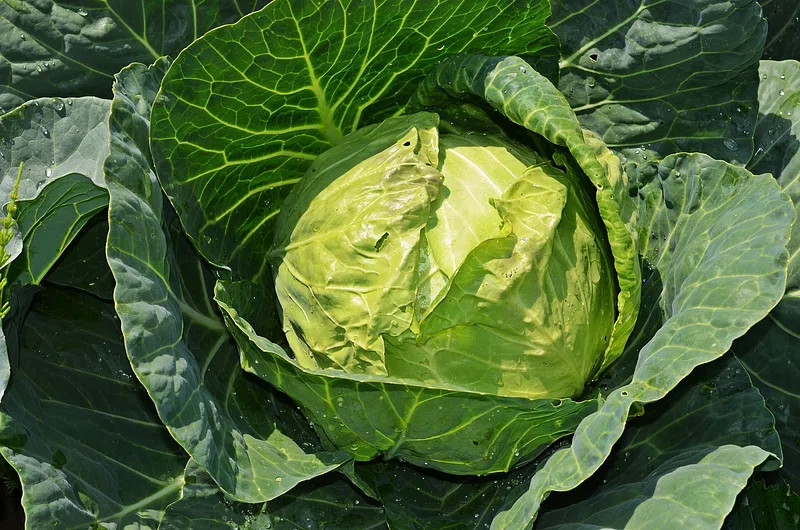cabbage: (108, 3, 660, 511)
